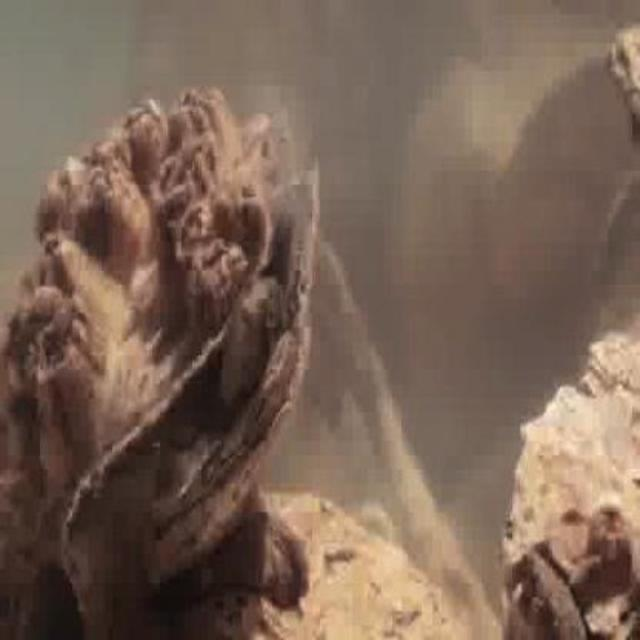Oyster-Closed: (197, 489, 467, 640), (507, 388, 640, 638), (166, 512, 307, 608), (586, 334, 640, 405), (611, 24, 640, 126)
Oyster-Open: (2, 78, 318, 587), (500, 560, 593, 640)
